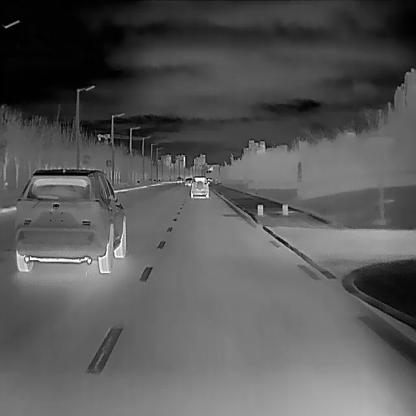car: (13, 166, 126, 274), (190, 175, 208, 198), (184, 176, 194, 186)
